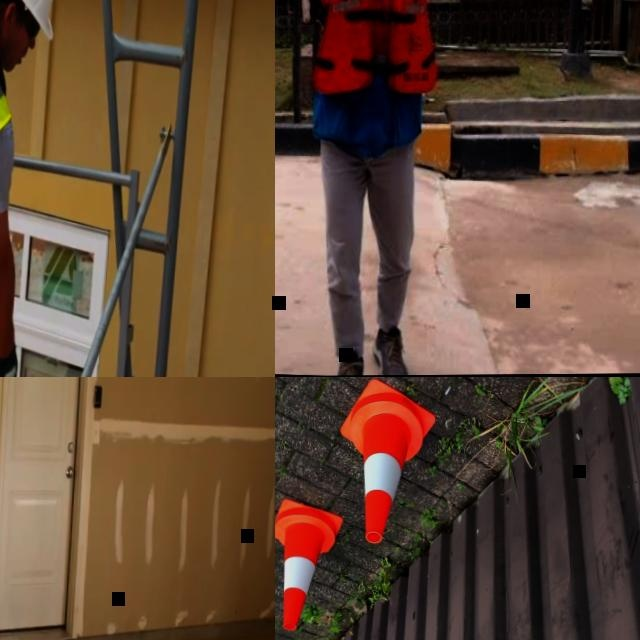Hardhat: (0, 0, 60, 38)
NO-Mask: (3, 30, 24, 73)
Person: (275, 0, 512, 376), (0, 0, 60, 377)
Safety Cone: (328, 378, 438, 553), (275, 495, 344, 631)
Safety Vest: (310, 0, 446, 102)
